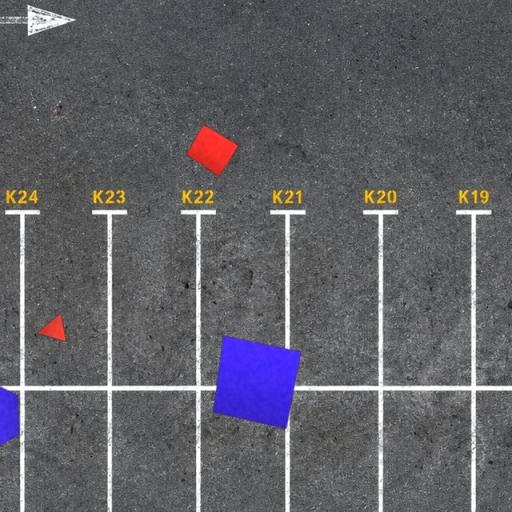BLUE_SQUARE: (212, 335, 302, 430)
RED_SQUARE: (186, 123, 240, 178)
